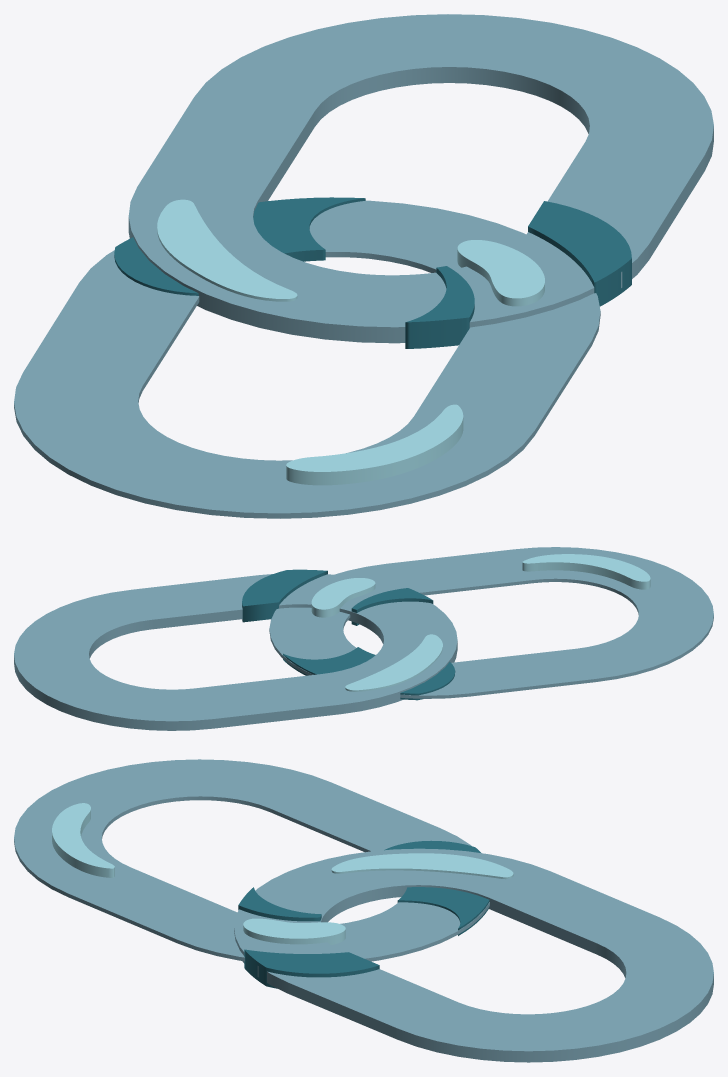
Rendered from emoji_u1f517.glb.
The picture shows the model from 3 angles, top to bottom: view 1: azimuth 30°, elevation 25°; view 2: azimuth 150°, elevation 25°; view 3: azimuth 270°, elevation 25°; orthographic projection. The views are drawn at different scales.
Visible parts, largest first — view 1: emoji_u1f517; view 2: emoji_u1f517; view 3: emoji_u1f517.
Boxes of the visible parts, left/top/right/bottom form: emoji_u1f517: left=14, top=14, right=713, bottom=518; emoji_u1f517: left=14, top=547, right=713, bottom=730; emoji_u1f517: left=14, top=759, right=713, bottom=1062.
Size of the model in its own units: 0.0338 by 0.0012 by 0.0338.
